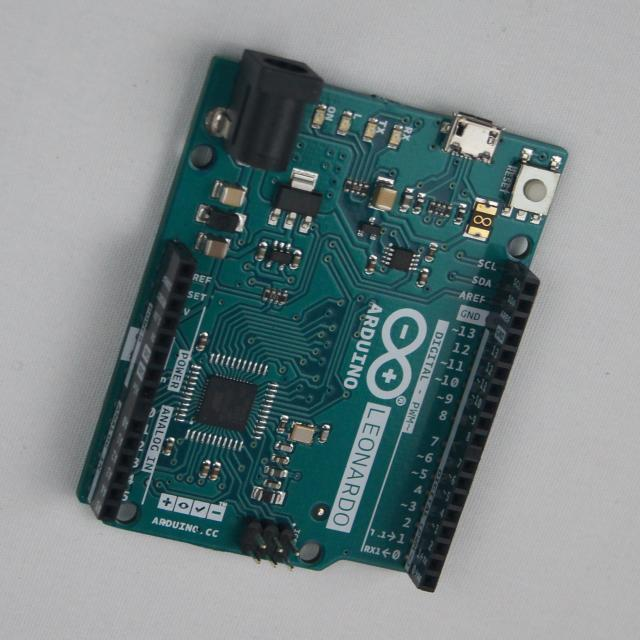Arduino-leonardo: (78, 51, 568, 592)
